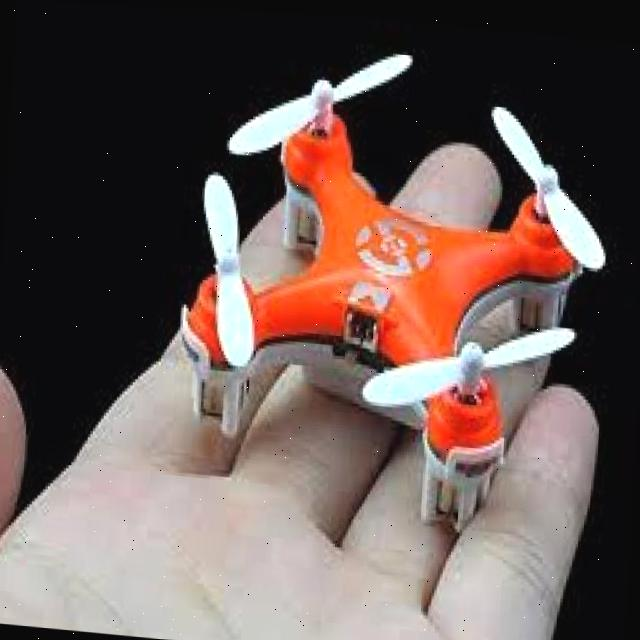drone: (183, 7, 619, 539)
